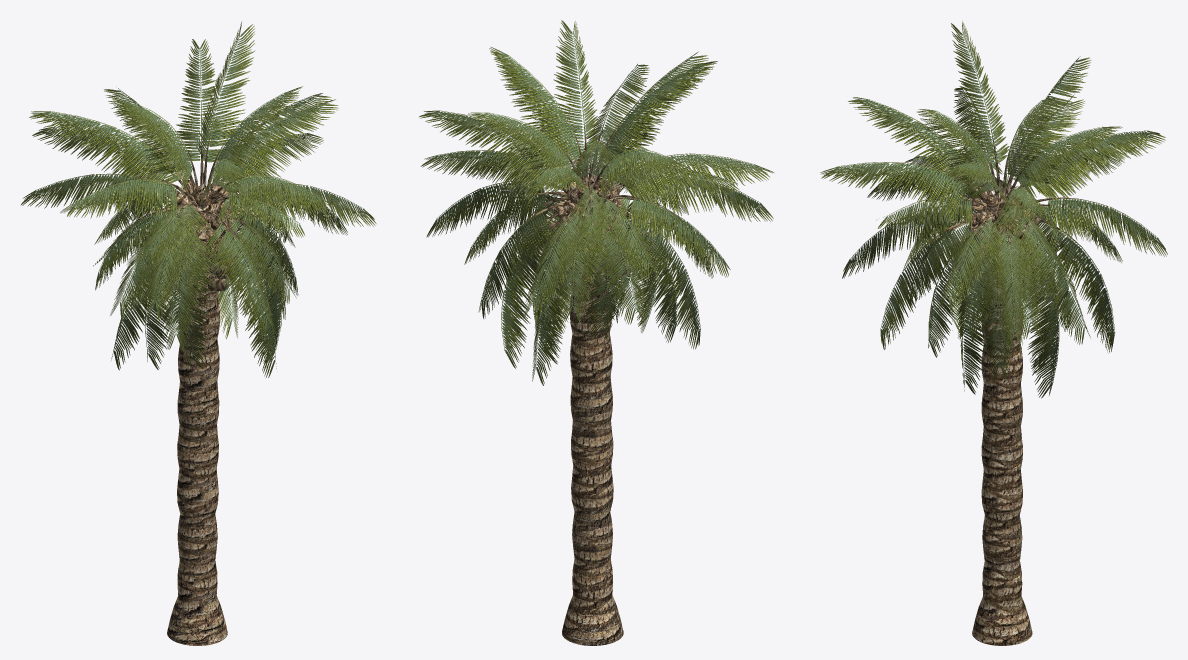
File: Palm_2_1.fbx
3 renders of one model, left to right at view 1: azimuth 30°, elevation 25°; view 2: azimuth 150°, elevation 25°; view 3: azimuth 270°, elevation 25°, orthographic. The views are drawn at different scales.
Parts seen in each view (by area): view 1: Palm_2_1; view 2: Palm_2_1; view 3: Palm_2_1.
Boxes of the visible parts, x1,y1,x2,y2 form: Palm_2_1: (20,21,376,645); Palm_2_1: (419,20,774,645); Palm_2_1: (820,21,1167,645).
Size of the model in its own units: 779 by 1337 by 765.
